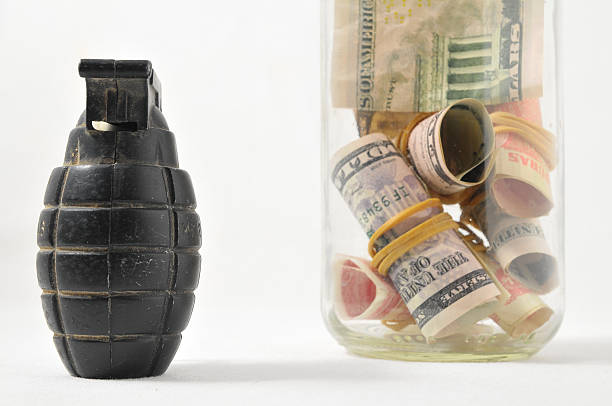e1: (37, 60, 203, 379)
